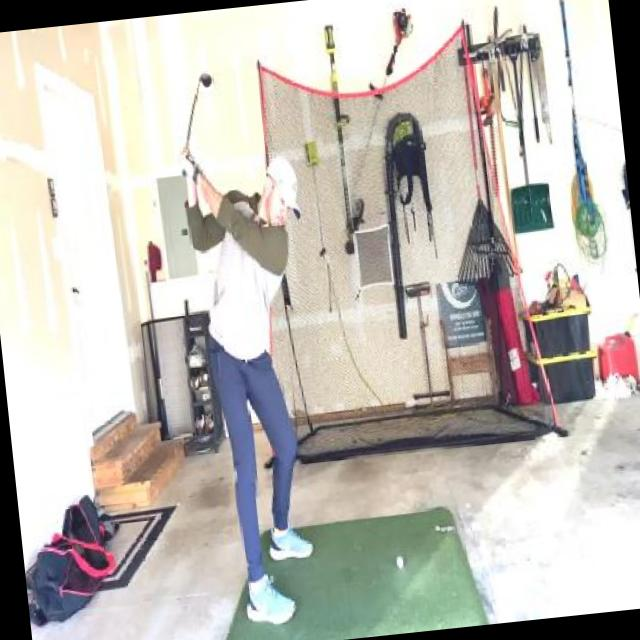club head: (196, 71, 213, 91)
